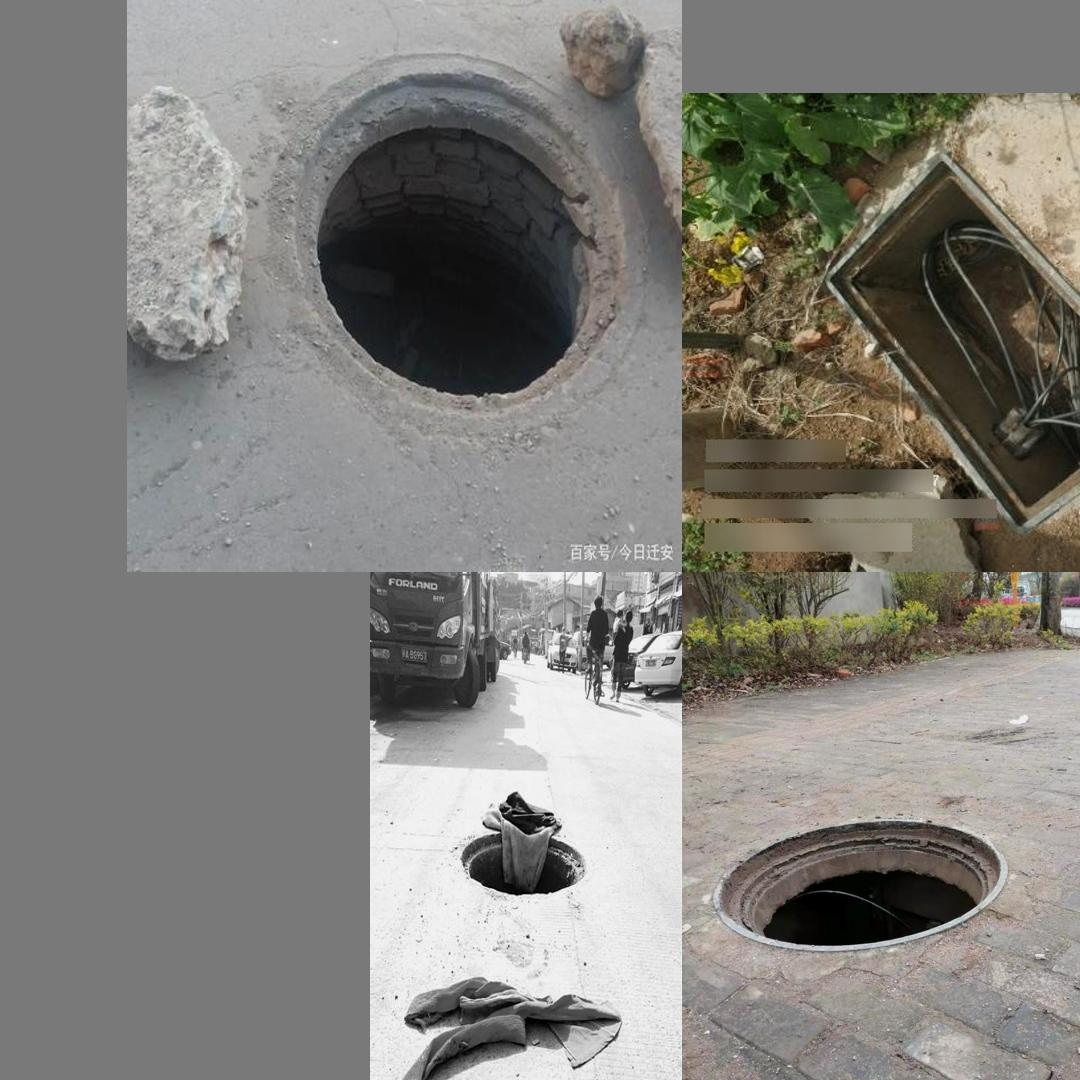lose: (284, 39, 635, 422), (823, 151, 1080, 540), (713, 816, 1008, 950), (456, 816, 593, 907)
